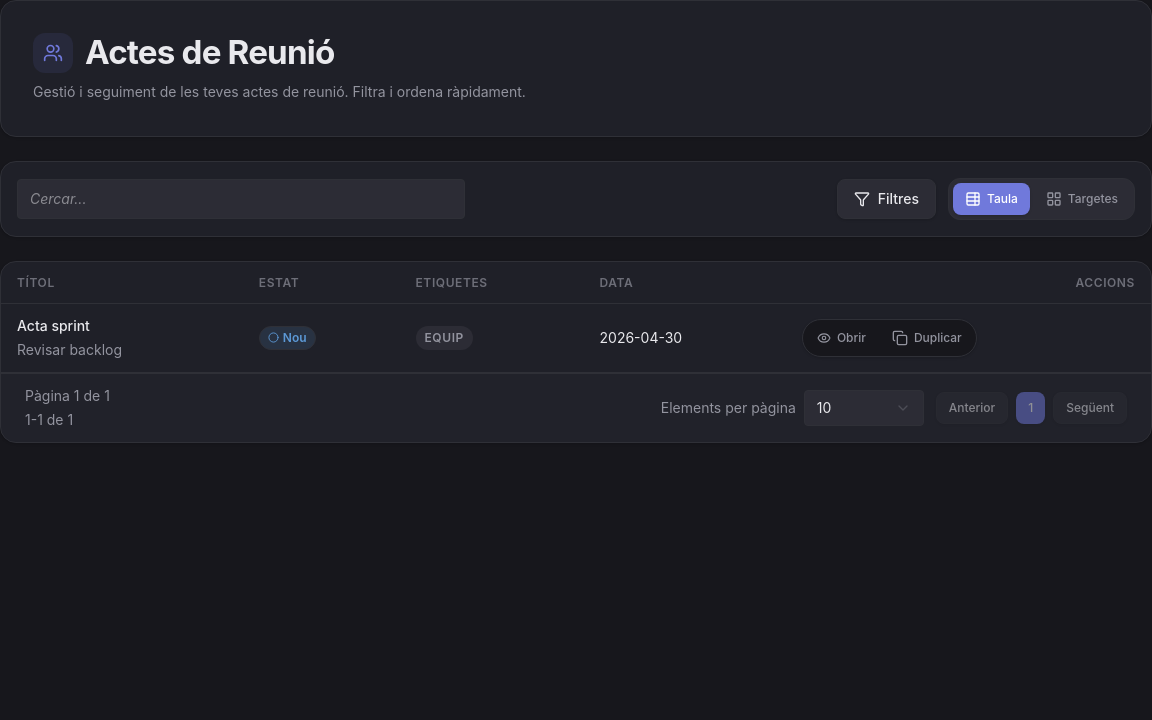
Test case: ActesPage › keeps filter controls in shared filter panel
The width and height of the screenshot is (1152, 720).
Click the button "Filtres" at (886, 199), box [837, 179, 936, 219]
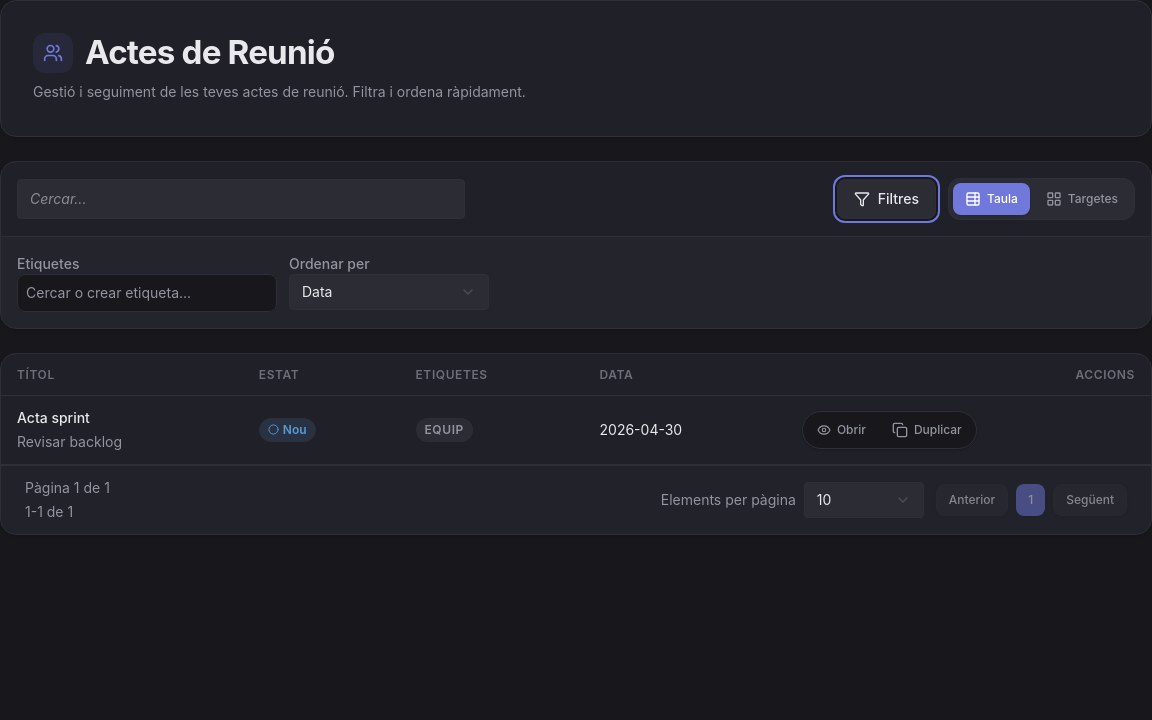
Result: the field labelled "Etiquetes" is shown at [26, 279, 268, 307]
Result: the dropdown named "Ordenar per" is shown at [289, 274, 489, 310]
